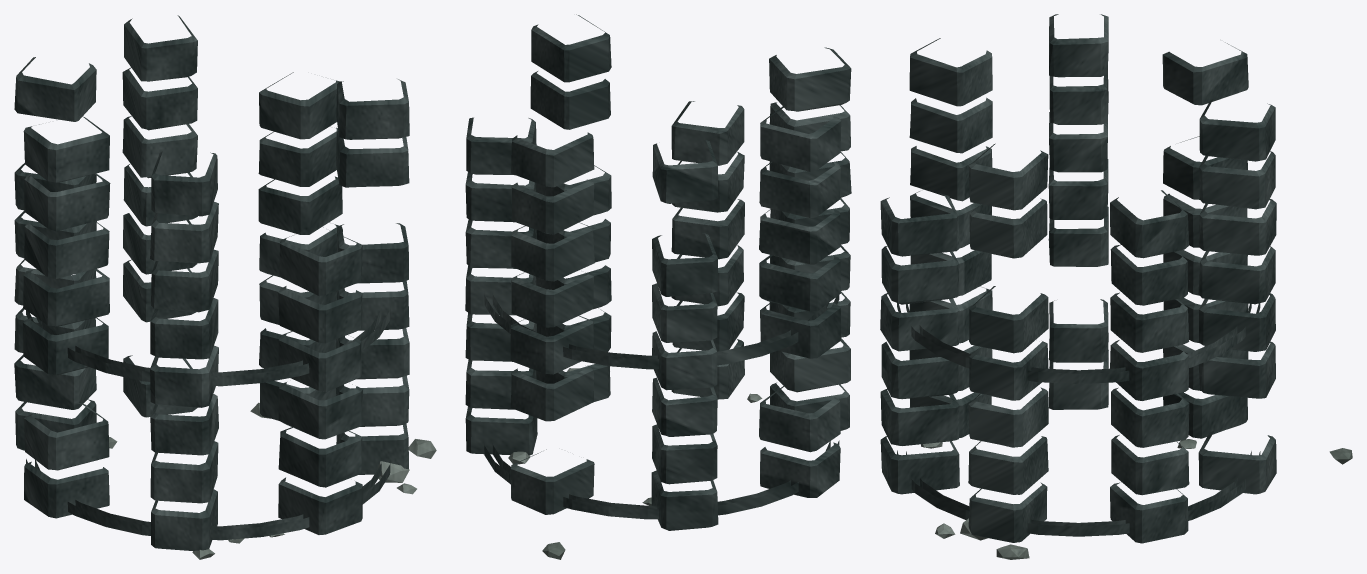
File: 0423_ruined_tower_23.glb
3 views of the same model, side by side, from view 1: azimuth 30°, elevation 25°; view 2: azimuth 150°, elevation 25°; view 3: azimuth 270°, elevation 25° (orthographic). The views are drawn at different scales.
Parts seen in each view (by area): view 1: stone_dark, stone; view 2: stone_dark, stone; view 3: stone_dark, stone.
Boxes of the visible parts, x1,y1,x2,y2 form: stone_dark: (14, 15, 409, 550); stone: (109, 402, 436, 559); stone_dark: (465, 14, 851, 530); stone: (508, 368, 762, 559); stone_dark: (880, 14, 1276, 543); stone: (921, 439, 1352, 559).
Size of the model in its own units: 3.33 by 3.35 by 3.79.
2 materials, 2 textured.
